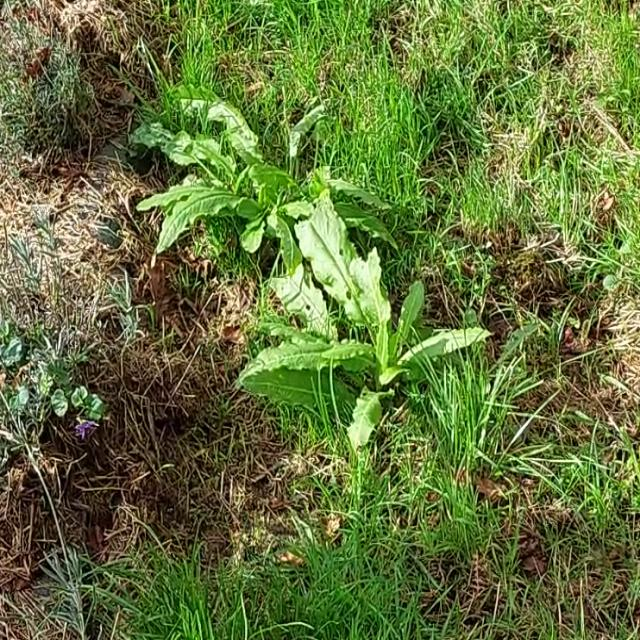organic waste: (200, 179, 485, 476), (116, 69, 356, 310)
